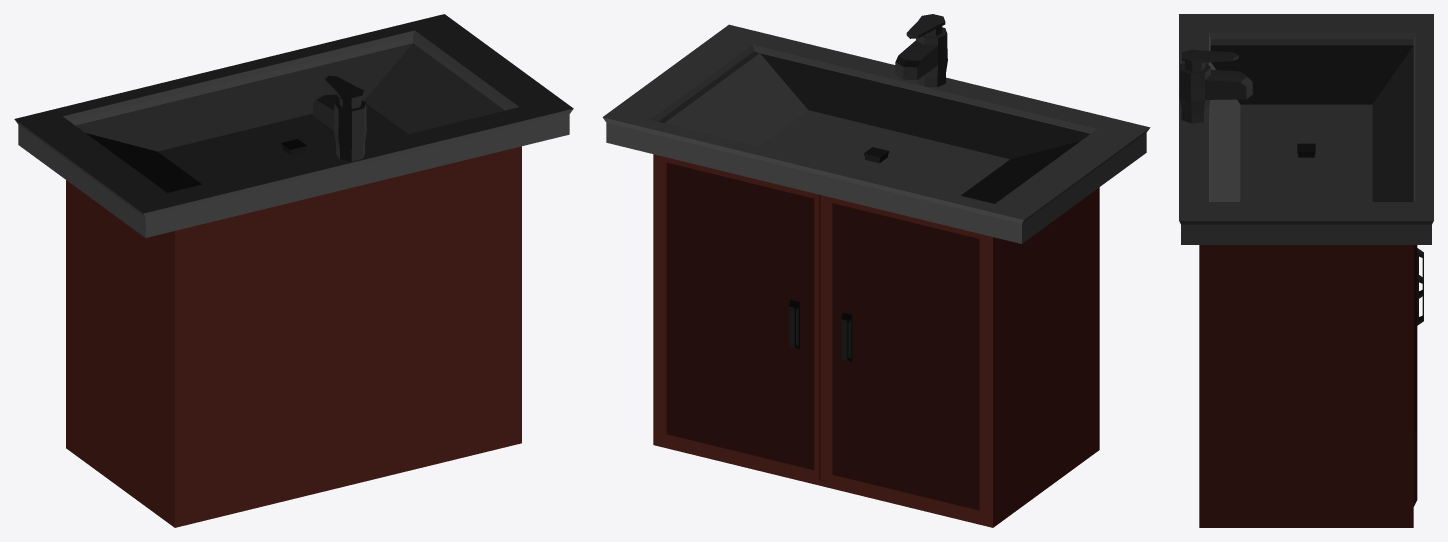
File: Sink.fbx
3 renders of one model, left to right at view 1: azimuth 30°, elevation 25°; view 2: azimuth 150°, elevation 25°; view 3: azimuth 270°, elevation 25°, orthographic. The views are drawn at different scales.
Parts seen in each view (by area): view 1: Node 0, Node 3; view 2: Node 0, Node 2, Node 1, Node 3; view 3: Node 0, Node 3, Node 2.
Boxes of the visible parts, x1,y1,x2,y2 form: Node 0: [14, 14, 573, 527]; Node 3: [313, 75, 366, 161]; Node 0: [602, 24, 1150, 527]; Node 2: [666, 162, 814, 470]; Node 1: [832, 203, 979, 510]; Node 3: [895, 14, 947, 87]; Node 0: [1179, 14, 1433, 527]; Node 3: [1179, 49, 1252, 123]; Node 2: [1413, 245, 1423, 506].
Size of the model in its own units: 0.7691 by 1.3 by 1.48.
